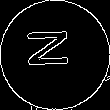N_E: (29, 34, 81, 76)
